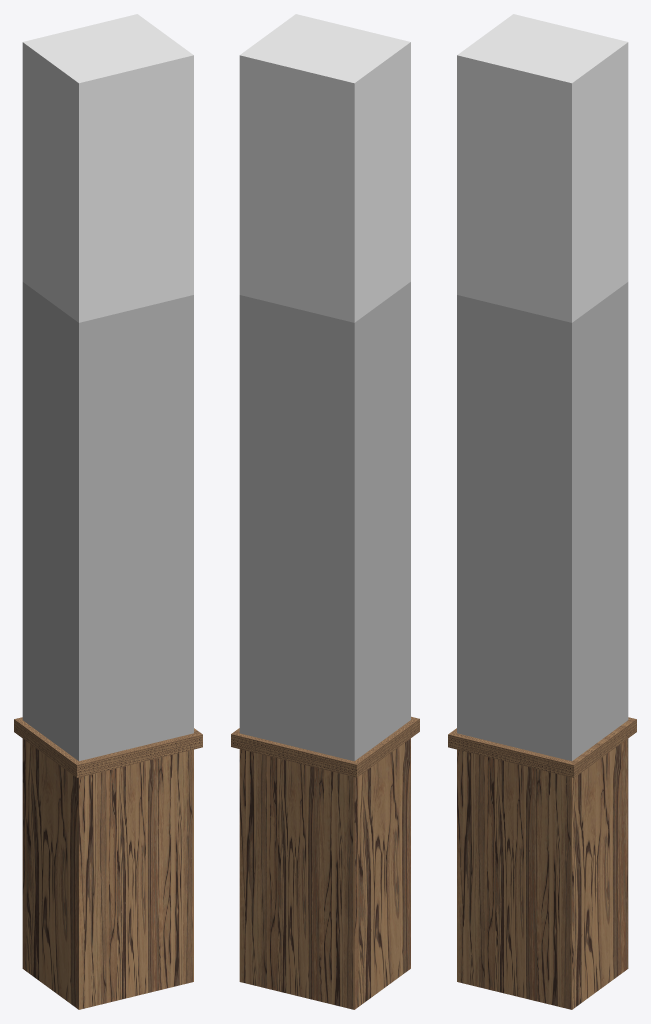
File: Column 2.fbx
3 views of the same model, side by side, from view 1: azimuth 30°, elevation 25°; view 2: azimuth 150°, elevation 25°; view 3: azimuth 330°, elevation 25° (orthographic).
Visible parts, largest first — view 1: Column 2; view 2: Column 2; view 3: Column 2.
Boxes of the visible parts, x1,y1,x2,y2 form: Column 2: (14, 14, 202, 1009); Column 2: (231, 14, 419, 1009); Column 2: (448, 14, 636, 1009).
Bounding box in the file's own units: 52.21 × 367 × 45.15.
